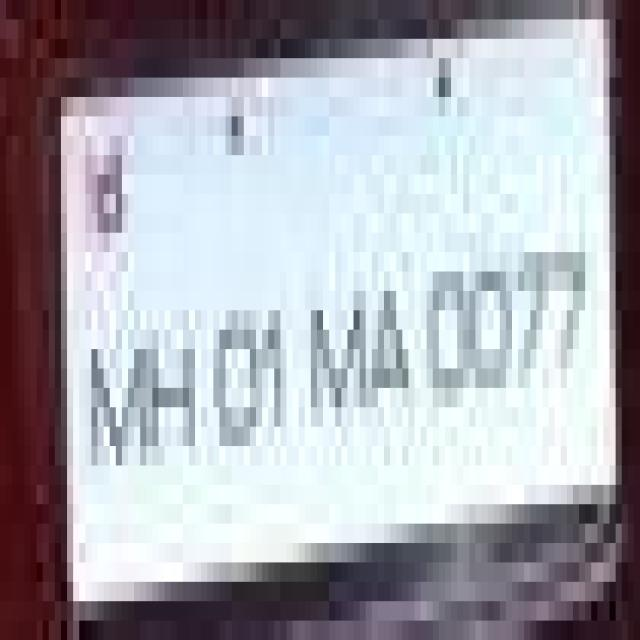plate: (54, 19, 616, 582)
